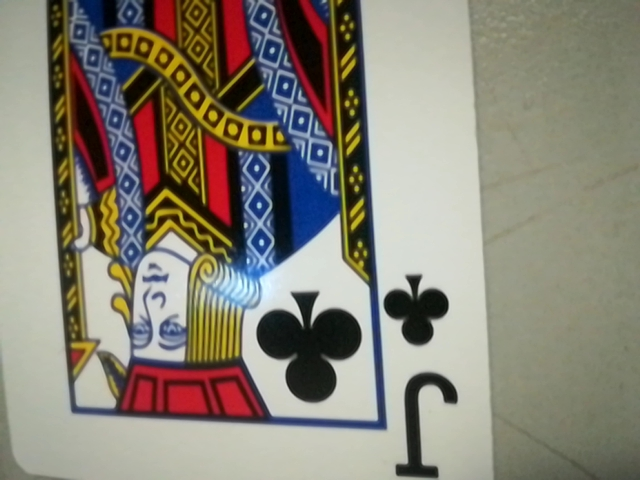mh j: (374, 264, 481, 480)
